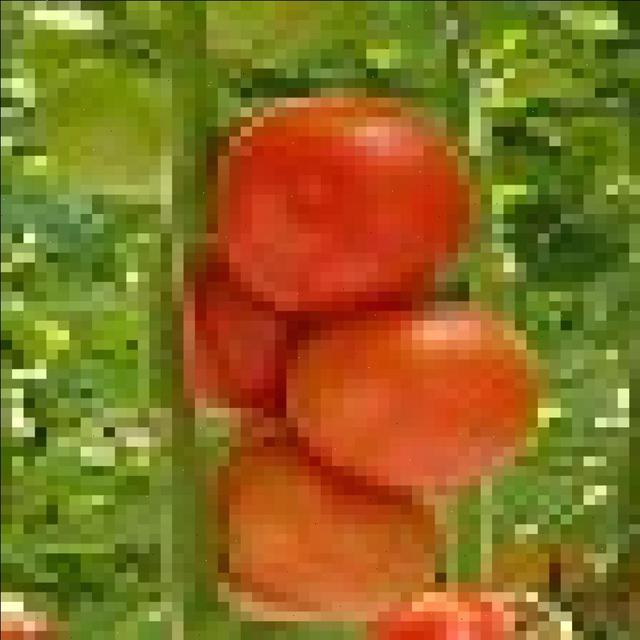Healthy Fruit: (152, 120, 282, 353)
